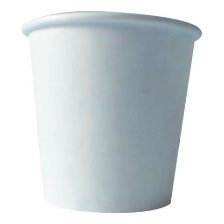paper_cup: (16, 7, 206, 217)
